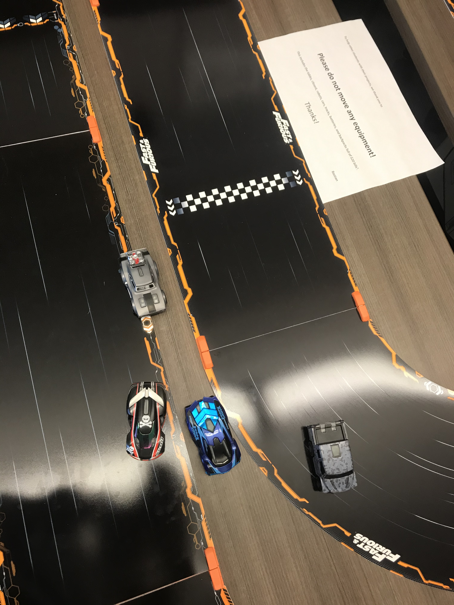Charger: (117, 246, 169, 318)
Finish Line: (165, 169, 306, 217)
MXT: (301, 419, 365, 494)
Shock: (185, 394, 242, 476)
Skull: (126, 381, 167, 461)
